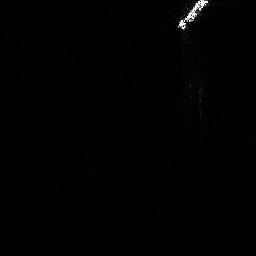ship: (174, 1, 213, 34)
